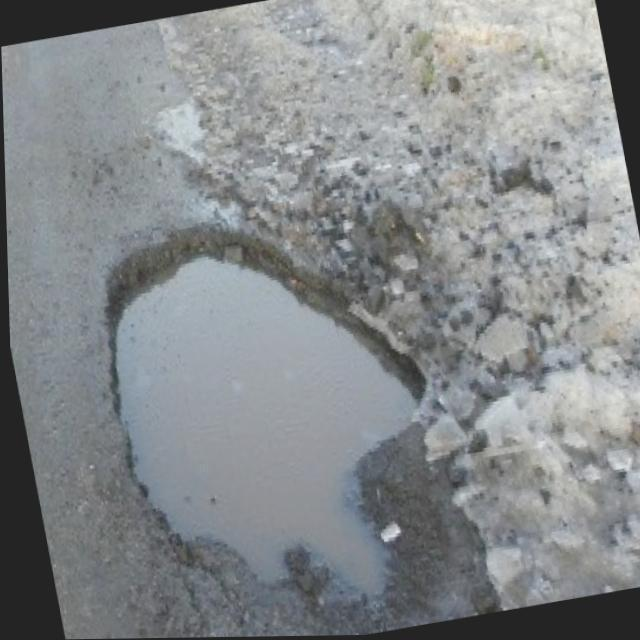Pothole: (94, 216, 512, 635)
